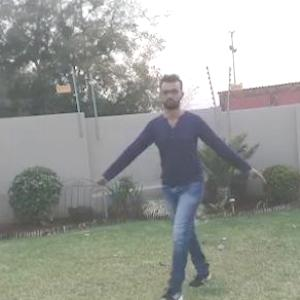land: (100, 75, 264, 298)
